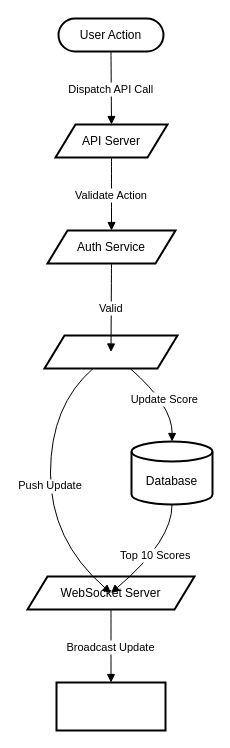
The diagram is 230 pixels wide and 748 high, and some of its shapes have lost their labels. Each missing label, with the centre of its shape:
"Clients" belongs at point (110, 706).
"Score Service" belongs at point (110, 351).
